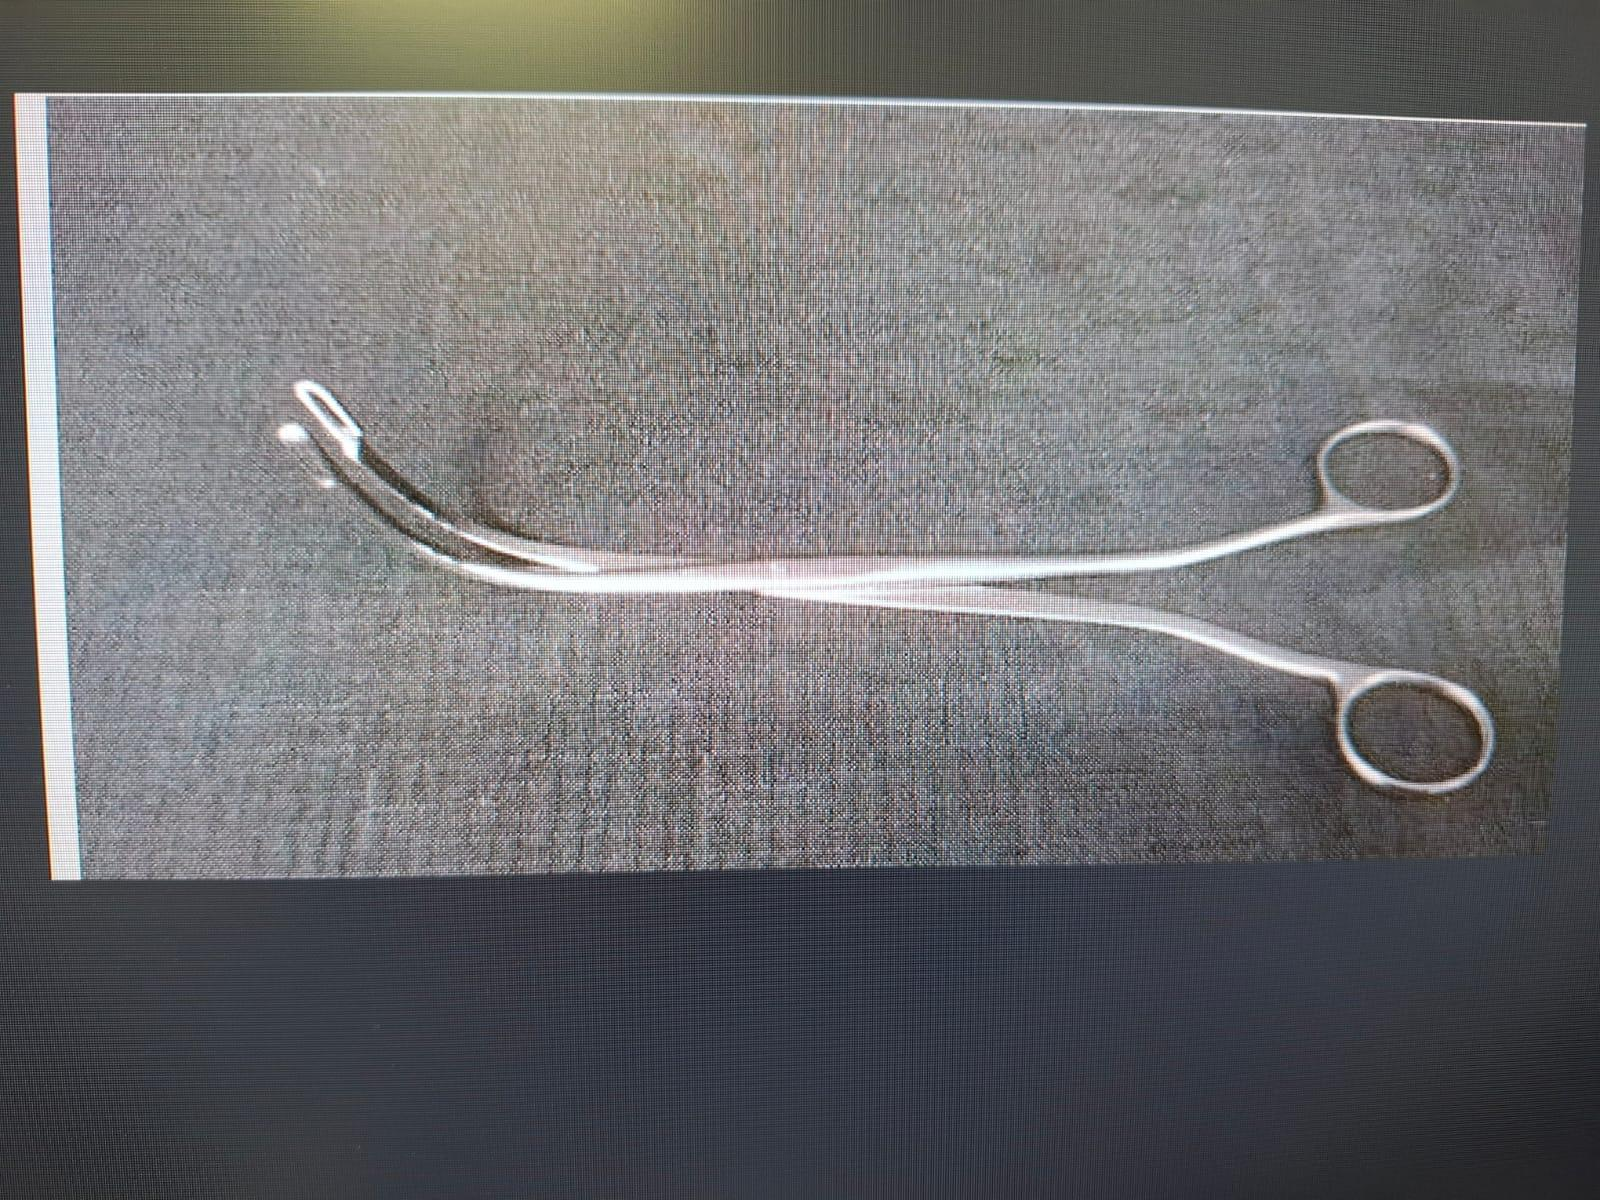Randall Forceps: (256, 334, 1502, 822)
